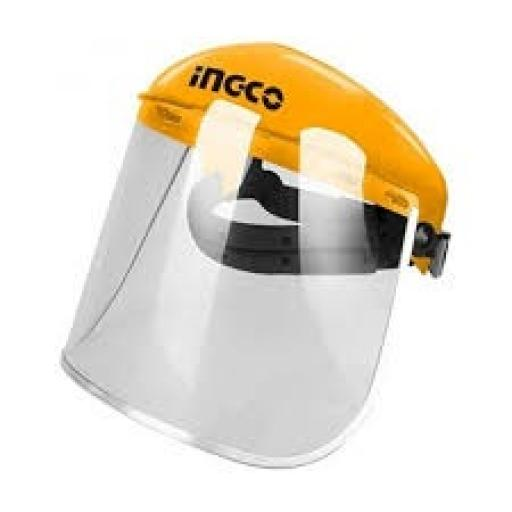mask: (48, 43, 458, 466)
